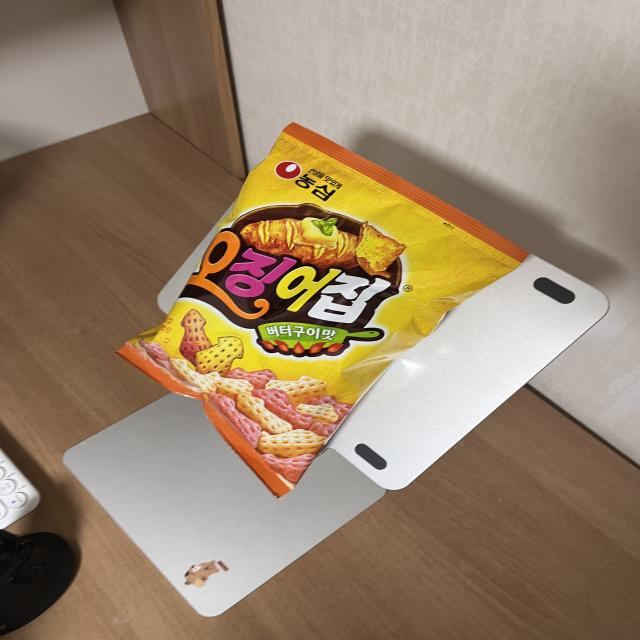ozingZip: (194, 168, 390, 446)
